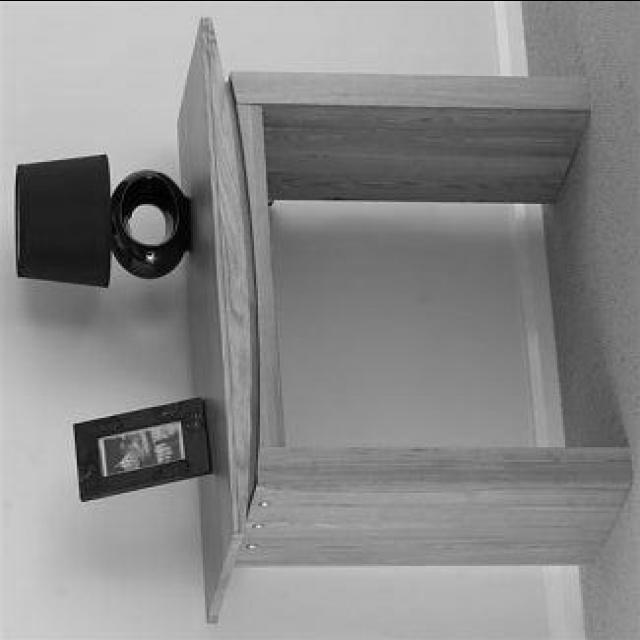table: (179, 16, 629, 622)
